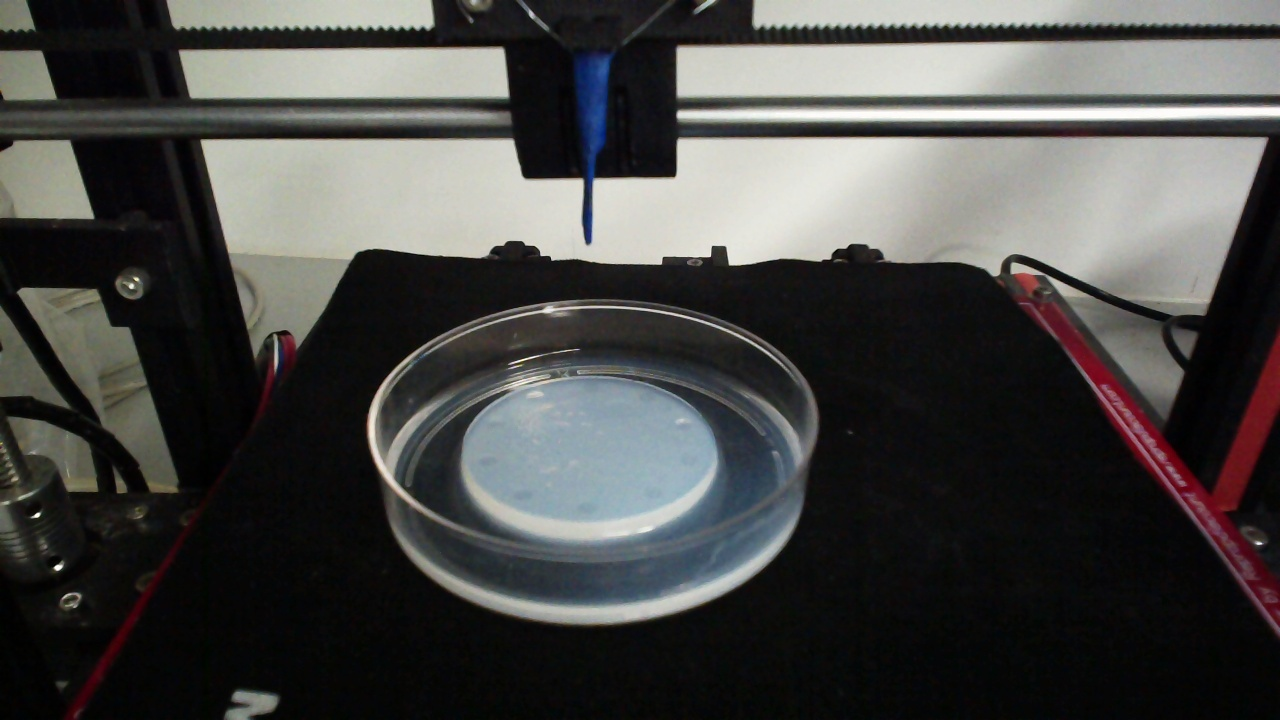groove: (510, 487, 533, 504), (475, 454, 499, 470), (678, 451, 700, 468), (574, 500, 598, 515), (642, 484, 663, 501), (485, 418, 506, 434), (579, 381, 601, 396), (636, 388, 657, 403), (525, 389, 547, 403), (672, 417, 693, 431)
needle: (572, 51, 612, 245)
